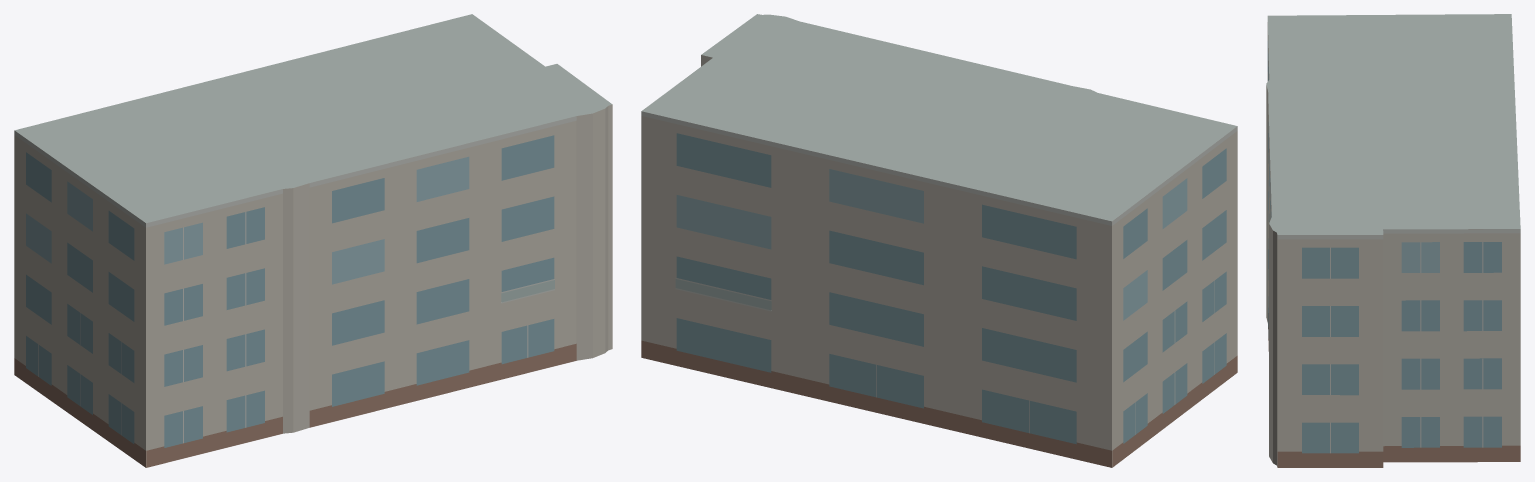
File: survey-upis-32543200.glb
3 renders of one model, left to right at view 1: azimuth 30°, elevation 25°; view 2: azimuth 150°, elevation 25°; view 3: azimuth 270°, elevation 25°, orthographic. The views are drawn at different scales.
Parts seen in each view (by area): view 1: survey-upis-32543200.tmp; view 2: survey-upis-32543200.tmp; view 3: survey-upis-32543200.tmp.
Part boxes in pixels (left/top/right/bottom): survey-upis-32543200.tmp: left=14, top=14, right=612, bottom=467; survey-upis-32543200.tmp: left=641, top=14, right=1237, bottom=467; survey-upis-32543200.tmp: left=1266, top=14, right=1520, bottom=467.
Bounding box in the file's own units: 26.65 × 13.1 × 12.97.
